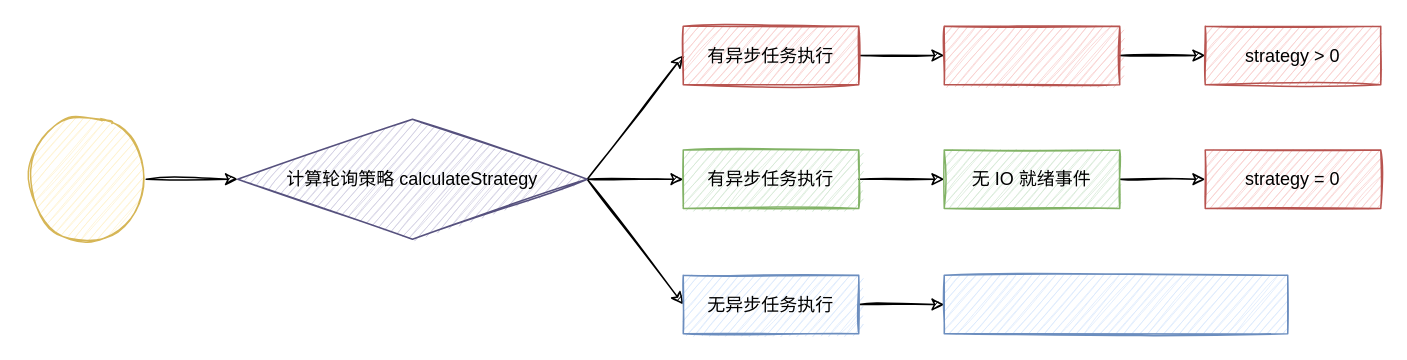
Image size: 1407x360. Some labels were removed from this diagram. Each missing label, with the centre of its shape:
"Reactor" goes at (x=85, y=178).
"strategy = SelectStrategy.SELECT = -1" goes at (x=1115, y=304).
"有 IO 就绪事件" goes at (x=1031, y=55).
